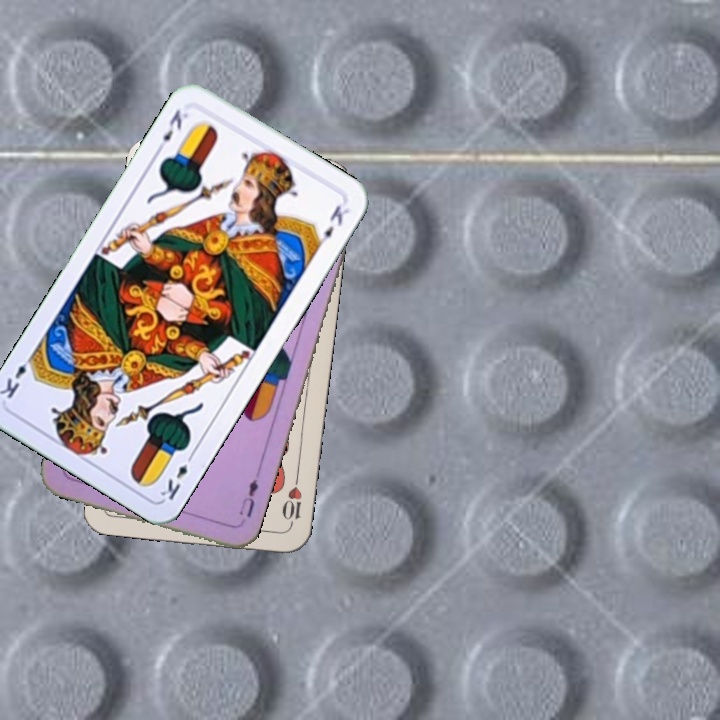EK: (156, 448, 198, 503), (152, 105, 191, 156)
EU: (234, 475, 261, 520)
H10: (278, 472, 305, 531)
